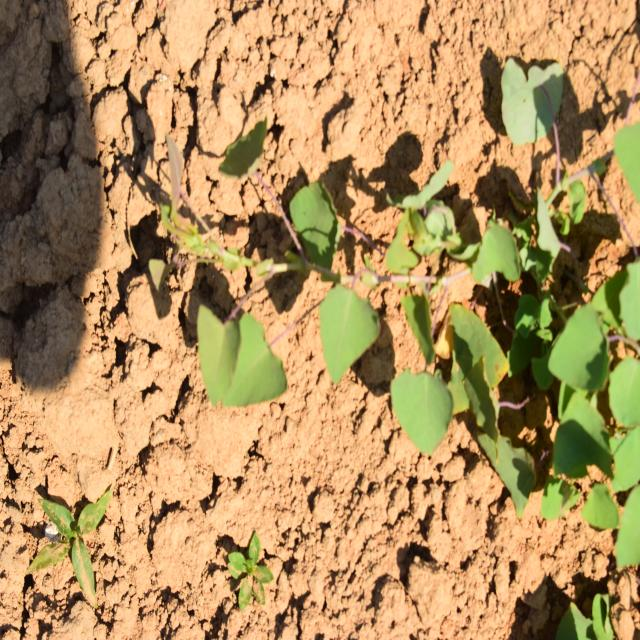Asiatic_Smartweed: (158, 119, 290, 430), (306, 266, 464, 456), (555, 226, 639, 555)
